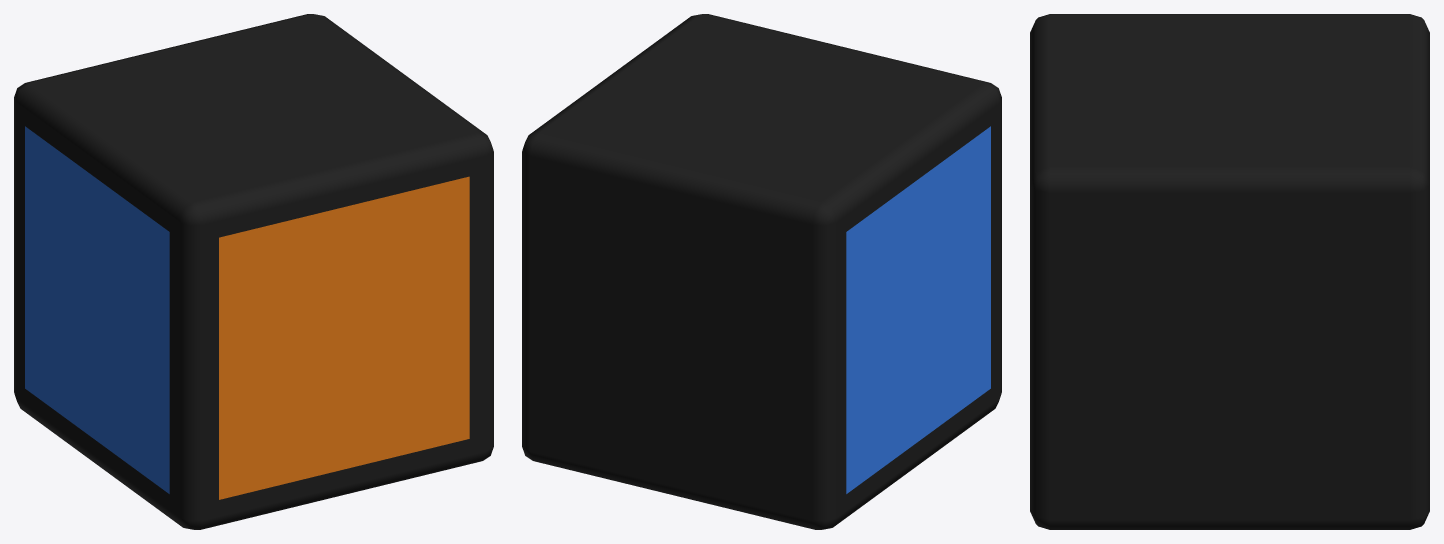
3 renders of one model, left to right at view 1: azimuth 30°, elevation 25°; view 2: azimuth 150°, elevation 25°; view 3: azimuth 270°, elevation 25°, orthographic. The views are drawn at different scales.
Visible parts, largest first — view 1: 1; view 2: 1; view 3: 1.
Boxes of the visible parts, x1=… form: 1: x1=14, y1=14, x2=493, y2=529; 1: x1=522, y1=14, x2=1001, y2=529; 1: x1=1030, y1=14, x2=1429, y2=529.
Bounding box in the file's own units: 2 × 2 × 2.
